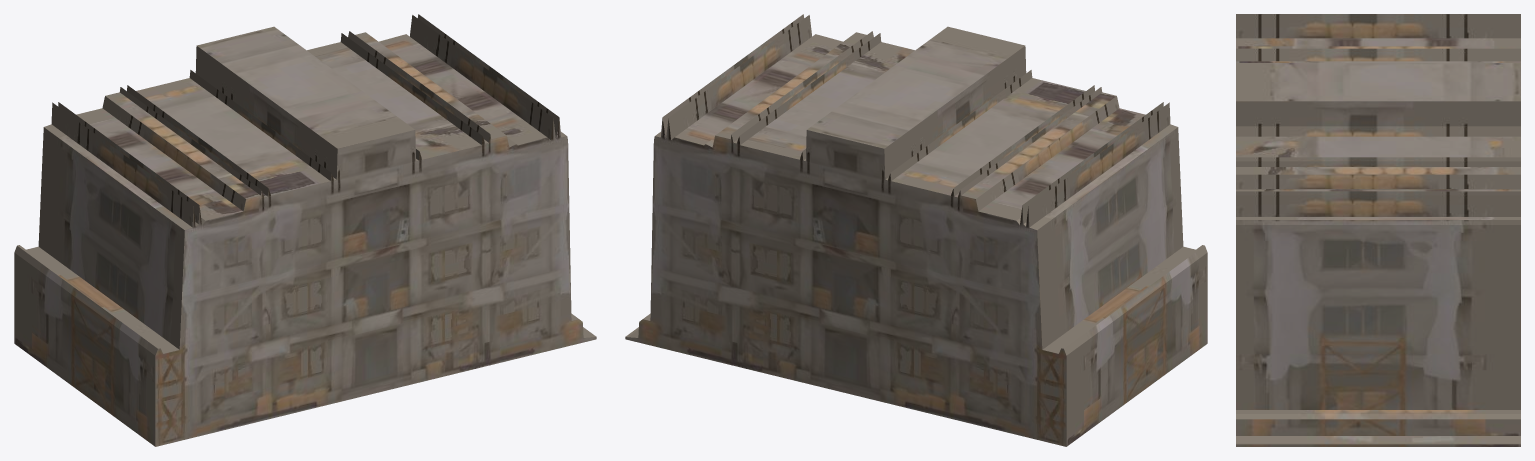
File: bg_city_ruin_2_lod0.glb
The picture shows the model from 3 angles, left to right: view 1: azimuth 30°, elevation 25°; view 2: azimuth 150°, elevation 25°; view 3: azimuth 270°, elevation 25°; orthographic projection.
Parts seen in each view (by area): view 1: body; view 2: body; view 3: body.
Boxes of the visible parts, x1,y1,x2,y2 form: body: (14, 14, 596, 446); body: (625, 14, 1207, 446); body: (1236, 14, 1520, 446).
Size of the model in its own units: 9 by 4.95 by 4.99.
Materials: 1 (1 with a texture image).
